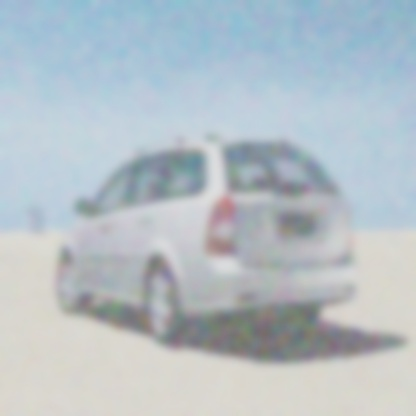Vehicle: (57, 132, 361, 350)
